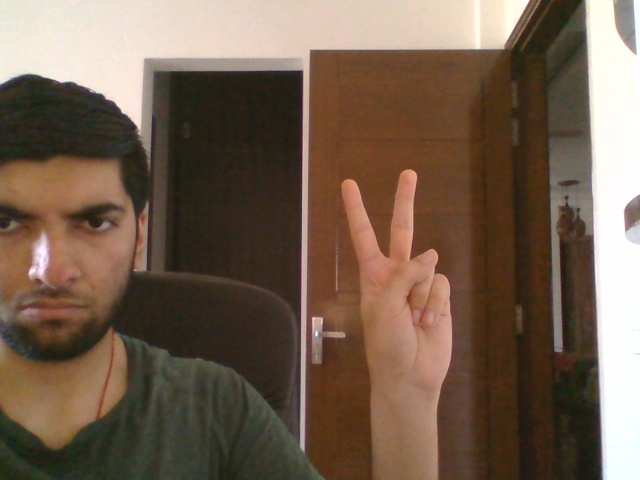LetterK: (341, 169, 453, 398)
